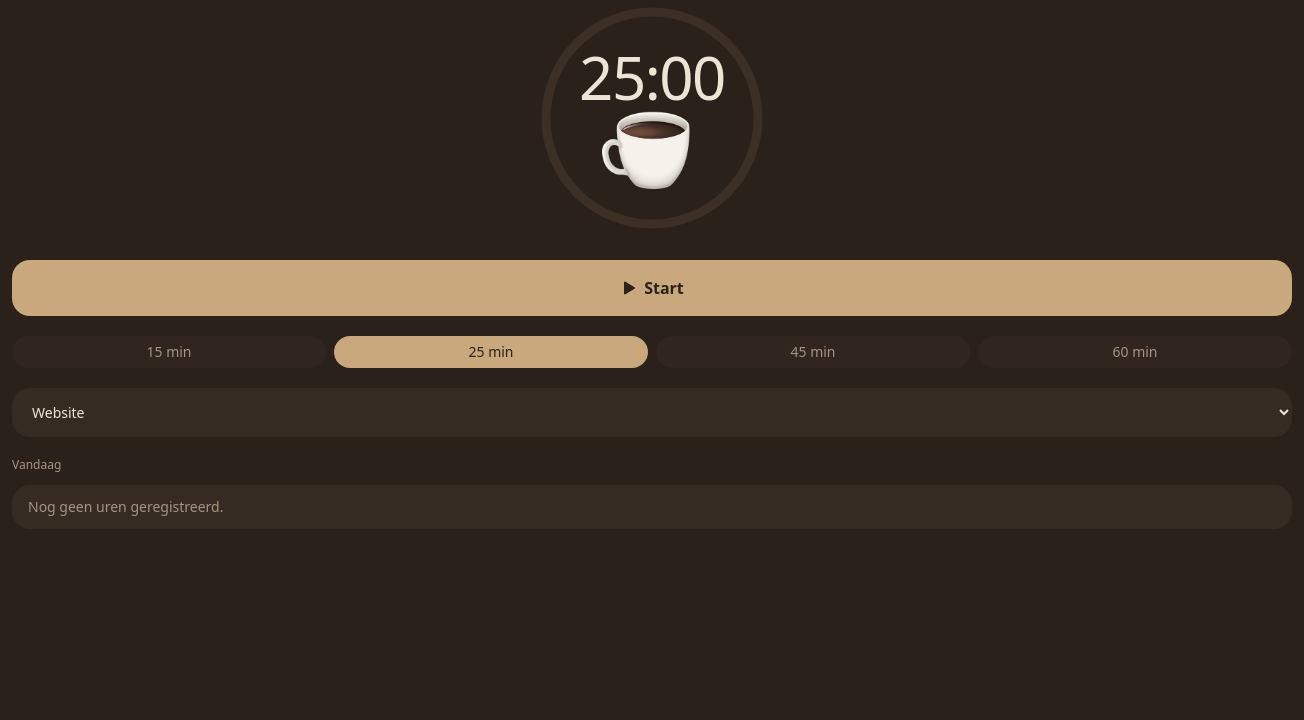
Test: Start/Stop pressed in the tray menu › stops a running block, logging what actually elapsed
Click the button "Start": (652, 288) [12, 260, 1292, 316]
Wait 6000 ms
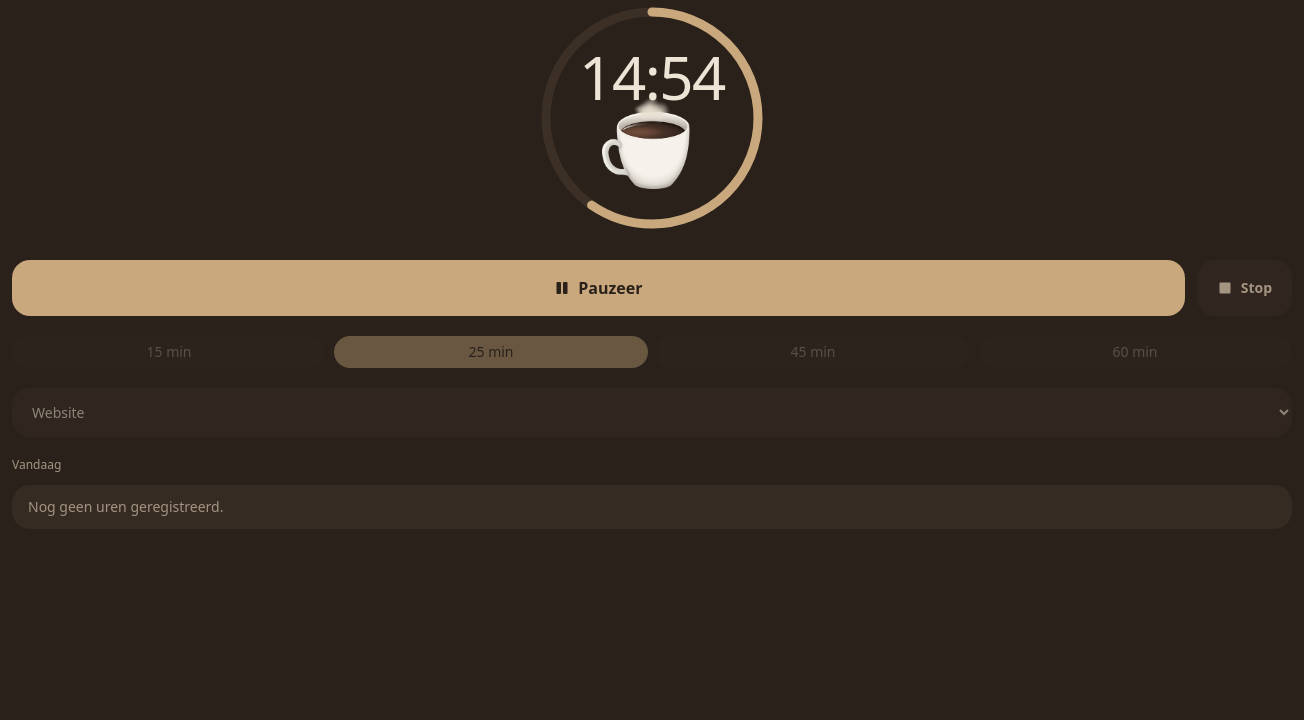
Expected: the button "Stop" is shown, [1197, 260, 1292, 316]
